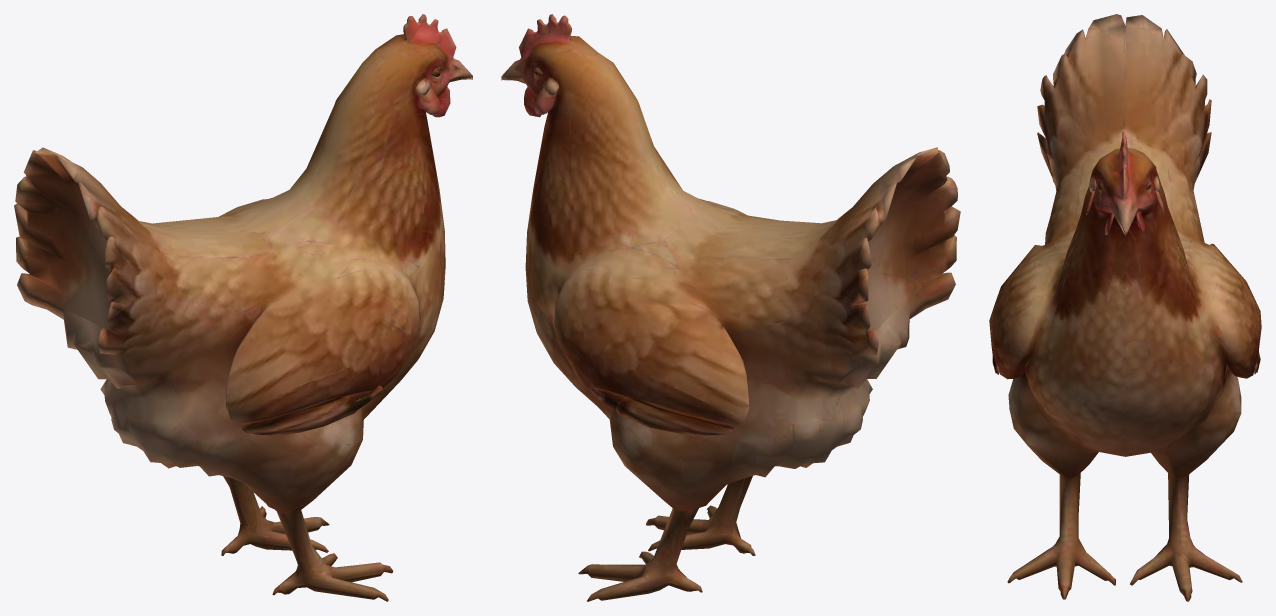
Rendered from galinha_hen.glb.
The picture shows the model from 3 angles, left to right: view 1: azimuth 30°, elevation 25°; view 2: azimuth 150°, elevation 25°; view 3: azimuth 270°, elevation 25°; orthographic projection. The views are drawn at different scales.
Parts seen in each view (by area): view 1: Adult Hen; view 2: Adult Hen; view 3: Adult Hen.
Part boxes in pixels (box(x1,y1,x2,y2)): Adult Hen: box(14, 14, 472, 601); Adult Hen: box(501, 14, 960, 601); Adult Hen: box(989, 14, 1261, 601).
Size of the model in its own units: 0.8418 by 0.998 by 0.5.
Materials: 1 (1 with a texture image).
